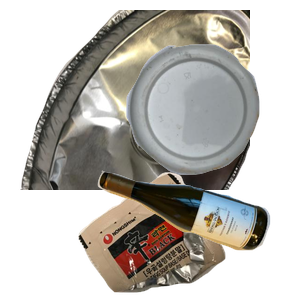glass: (95, 168, 300, 300)
metal: (18, 10, 258, 190)
plastic: (124, 42, 300, 210)
trash: (76, 170, 300, 300)
